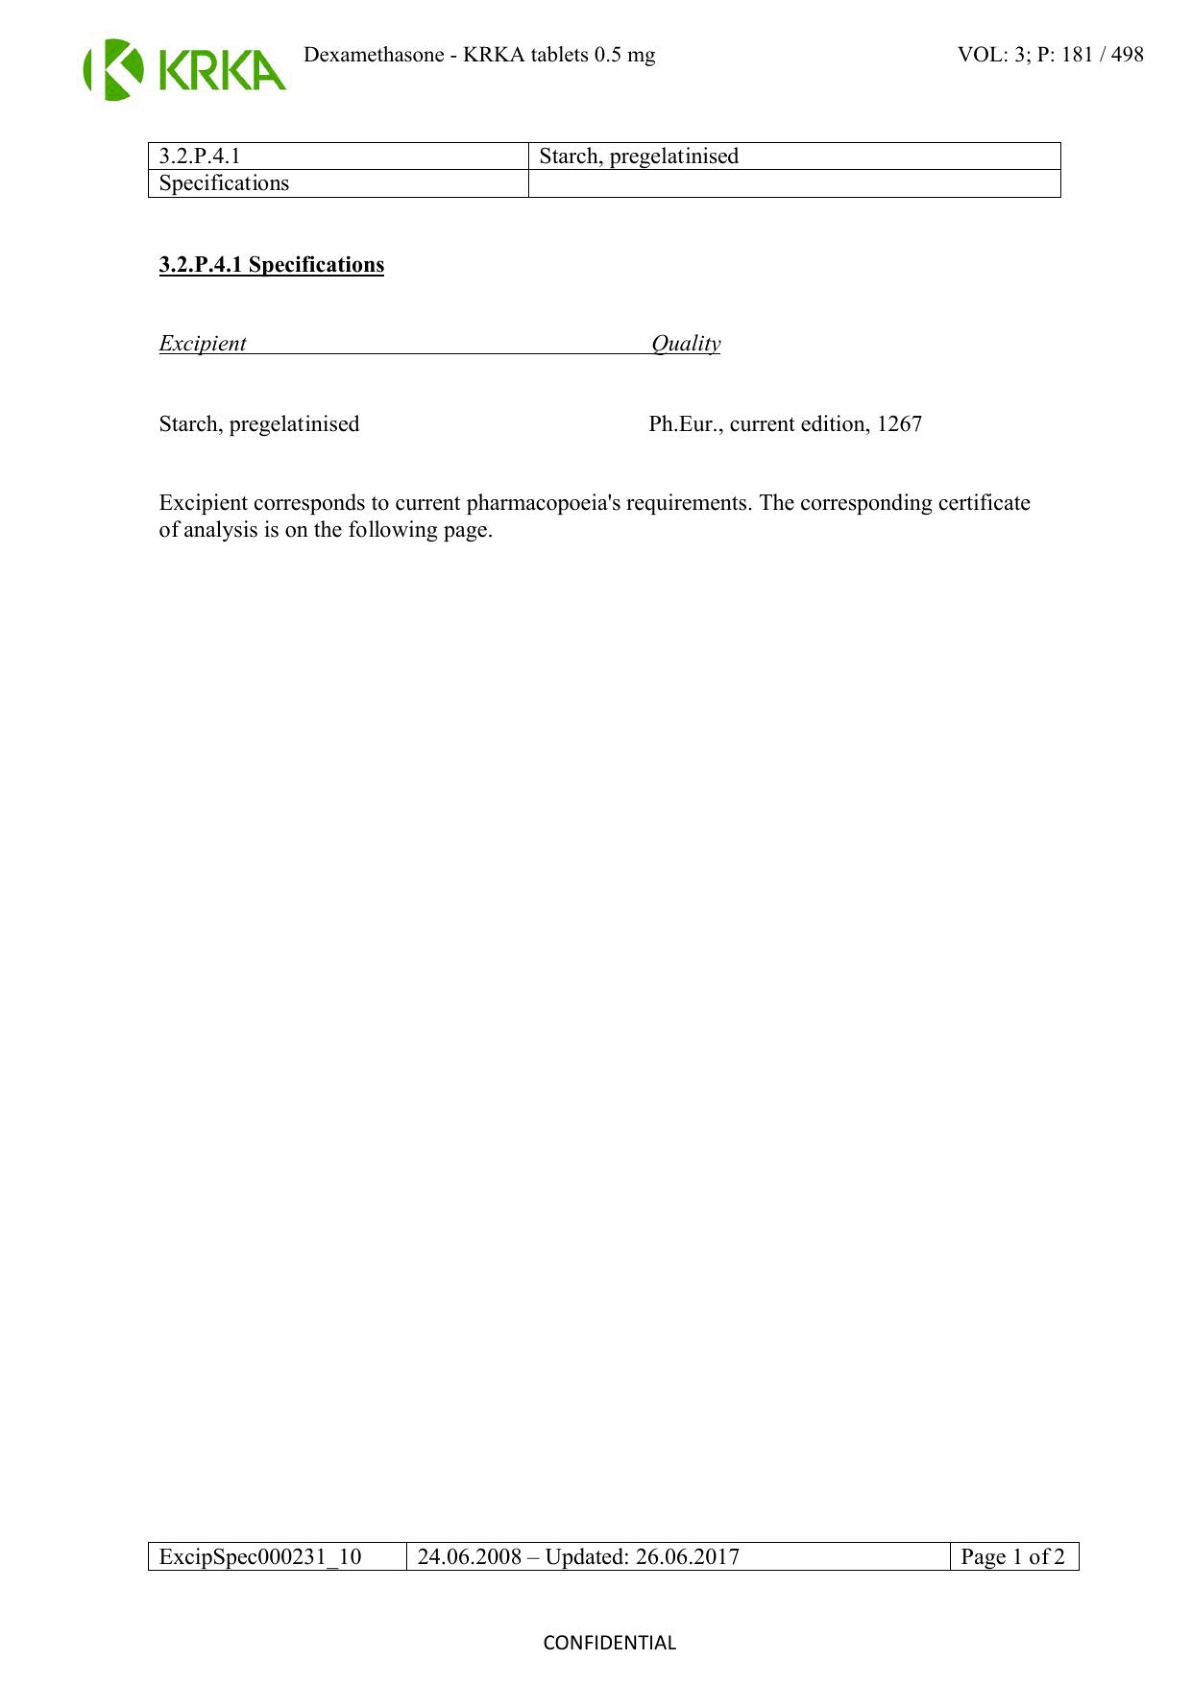full_lined: (147, 141, 1062, 199), (147, 1542, 1080, 1571)
